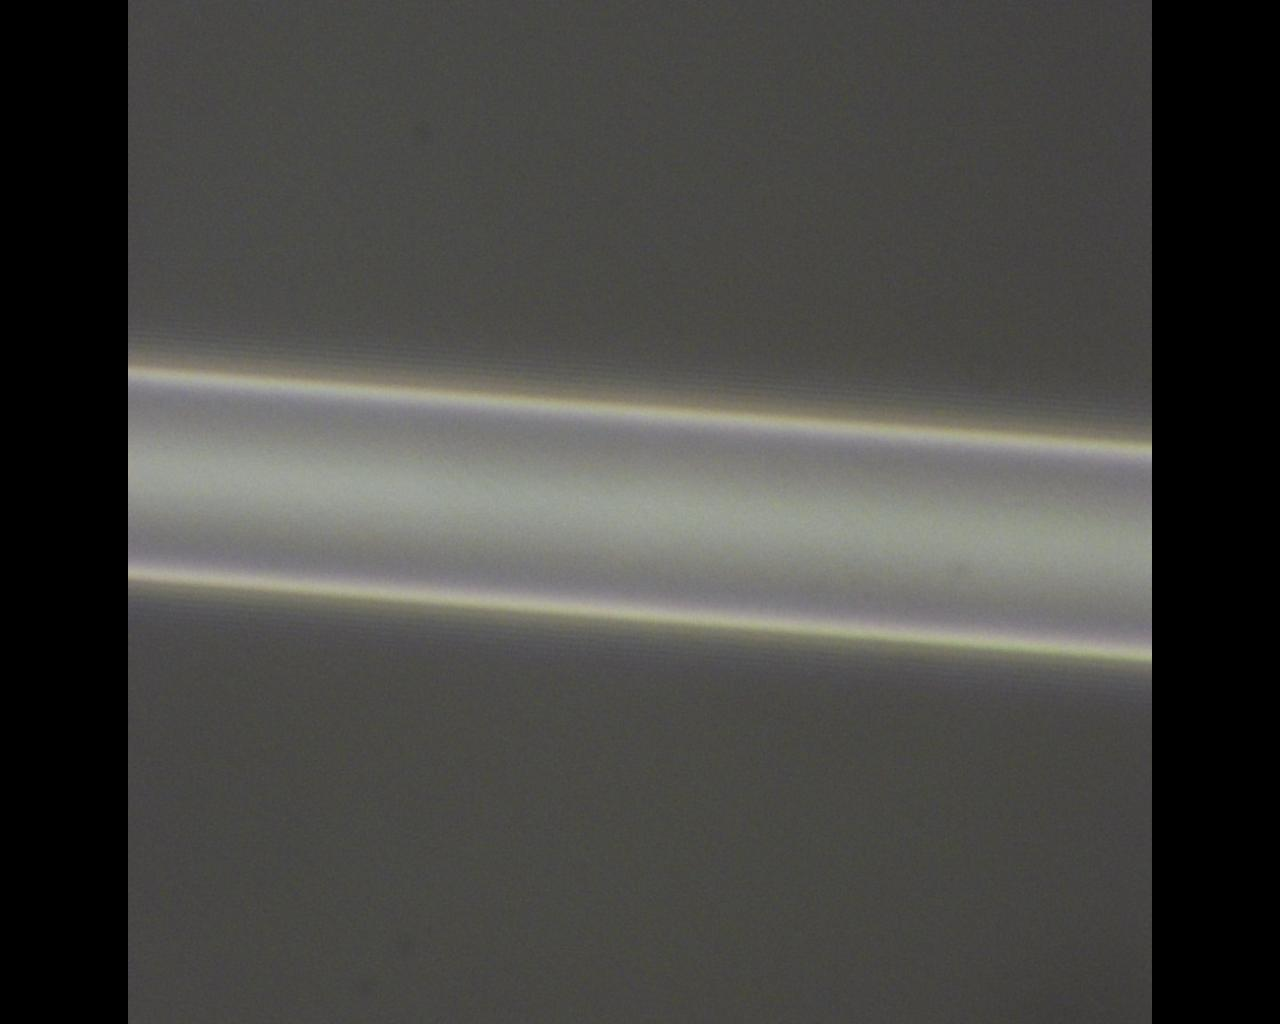fiber: (452, 563, 679, 1024), (670, 0, 812, 563), (896, 0, 1139, 104)
